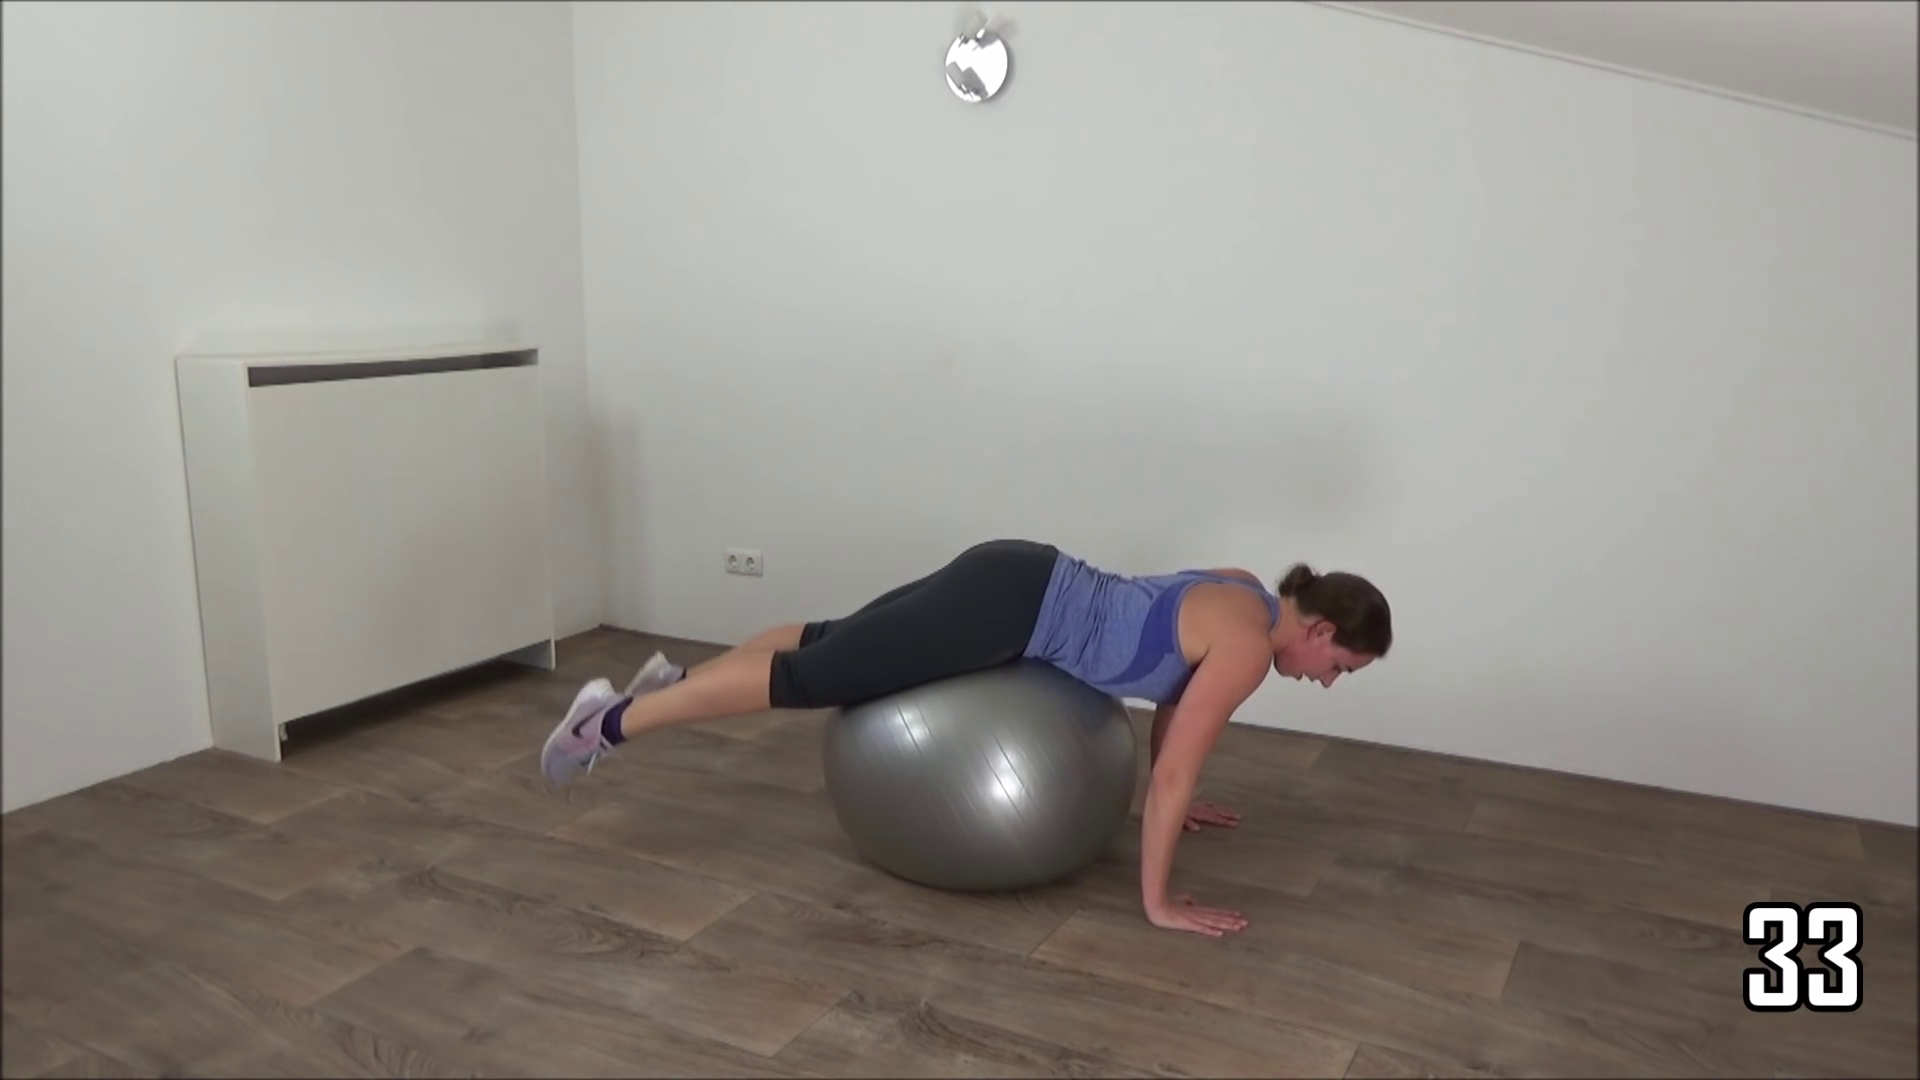yogaball: (806, 646, 1151, 909)
